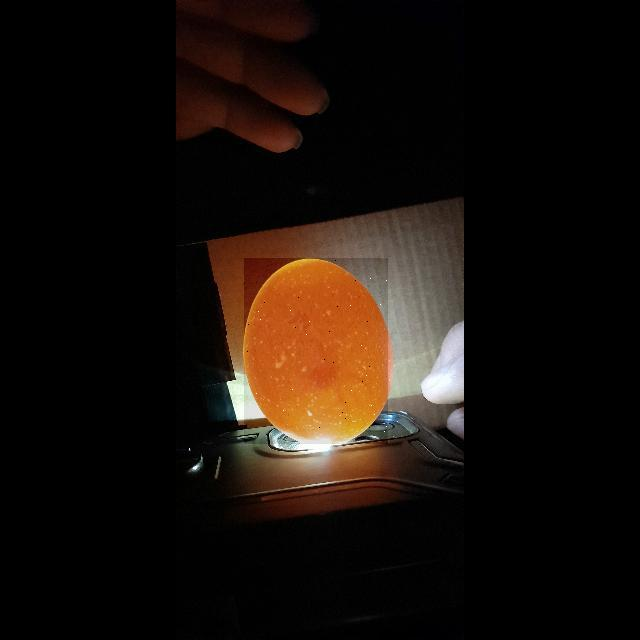Fertile: (244, 258, 388, 444)
